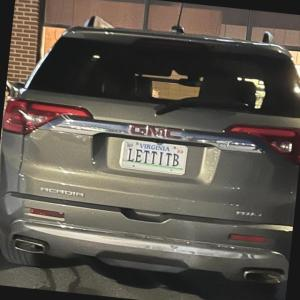Plate: (118, 139, 189, 175)
